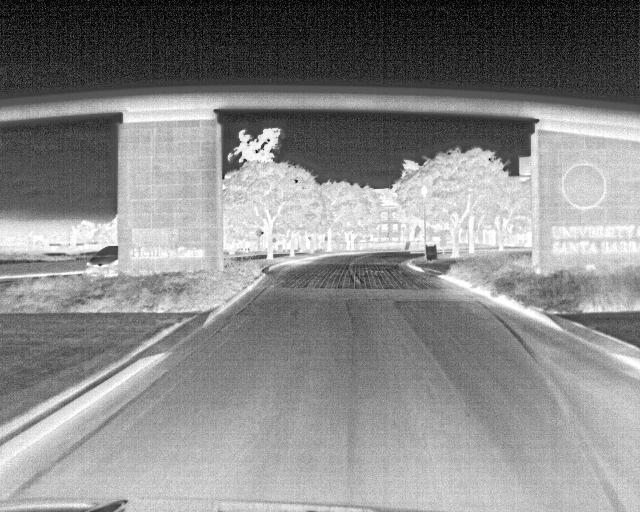car: (84, 245, 118, 271)
